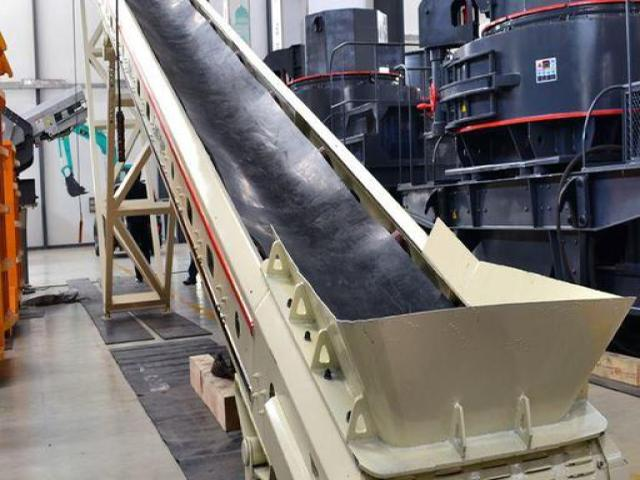conveyor: (78, 0, 638, 479)
